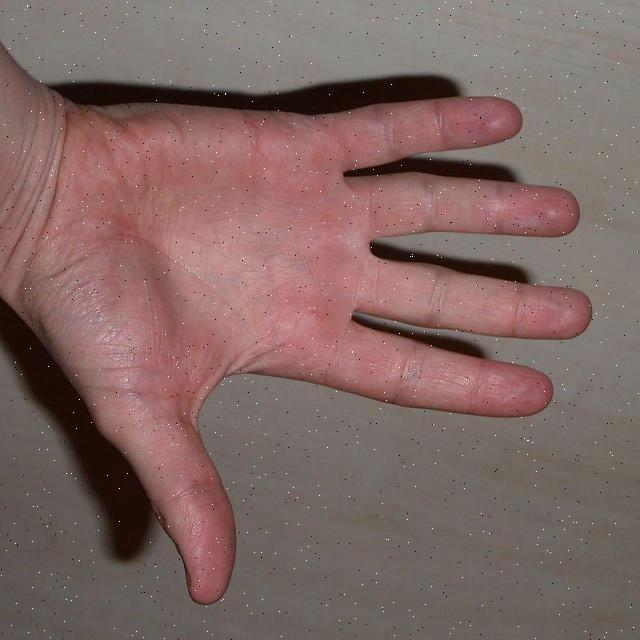no_apron: (47, 74, 621, 620)
